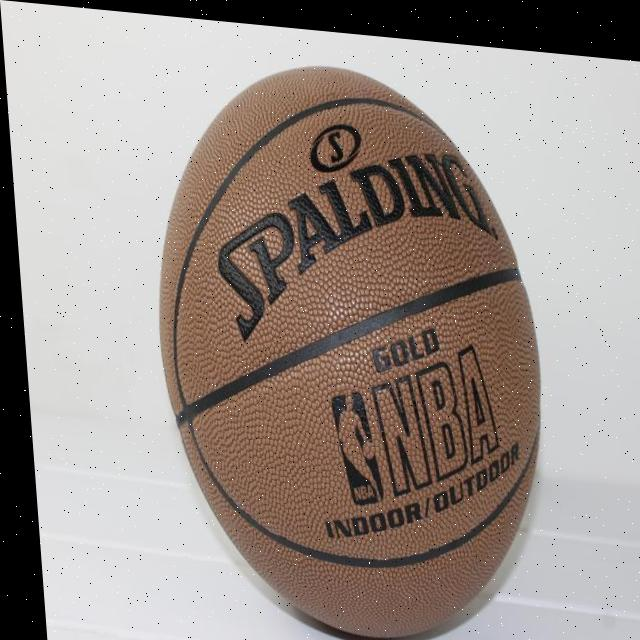Basketball: (136, 43, 561, 640)
